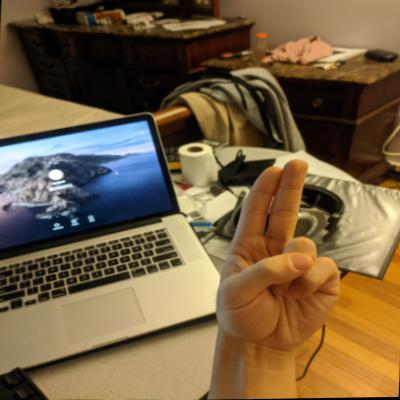hand: (208, 154, 354, 356)
